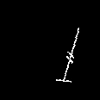treble_crochet: (56, 28, 78, 81)
